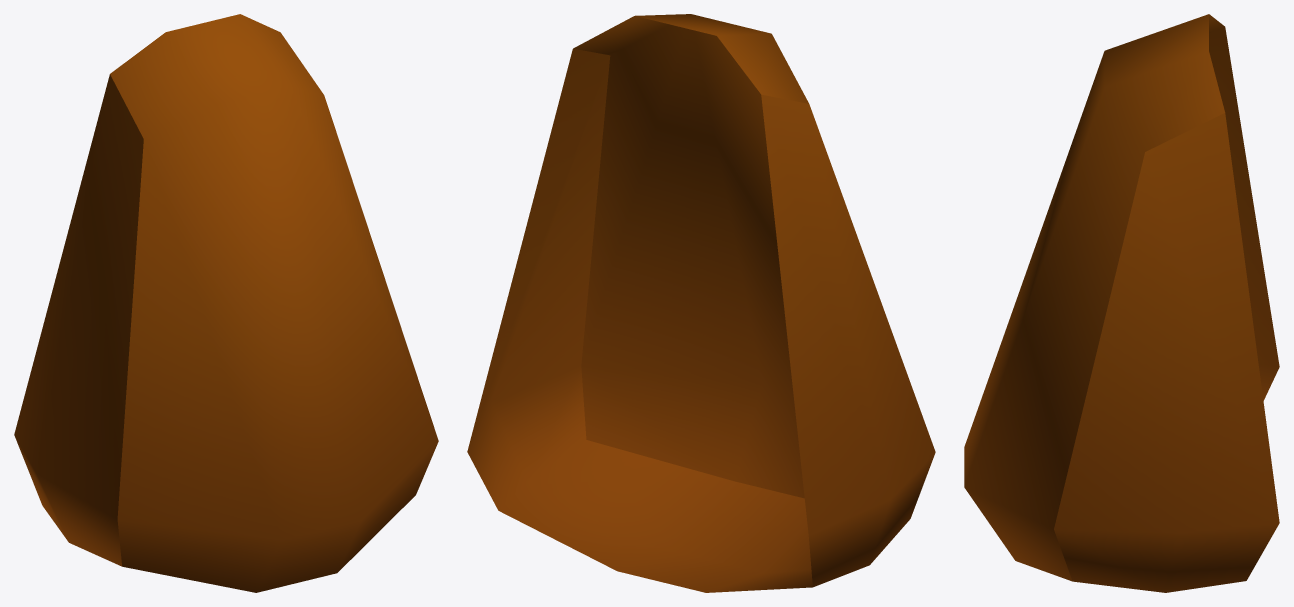
File: Nose_D_01_Black.fbx
3 views of the same model, side by side, from view 1: azimuth 30°, elevation 25°; view 2: azimuth 150°, elevation 25°; view 3: azimuth 270°, elevation 25° (orthographic). The views are drawn at different scales.
Visible parts, largest first — view 1: Nose_D_01_Black; view 2: Nose_D_01_Black; view 3: Nose_D_01_Black.
Boxes of the visible parts, x1,y1,x2,y2 form: Nose_D_01_Black: (14,14,438,592); Nose_D_01_Black: (467,14,935,592); Nose_D_01_Black: (964,14,1279,592).
Size of the model in its own units: 13.59 by 18.54 by 9.94.
